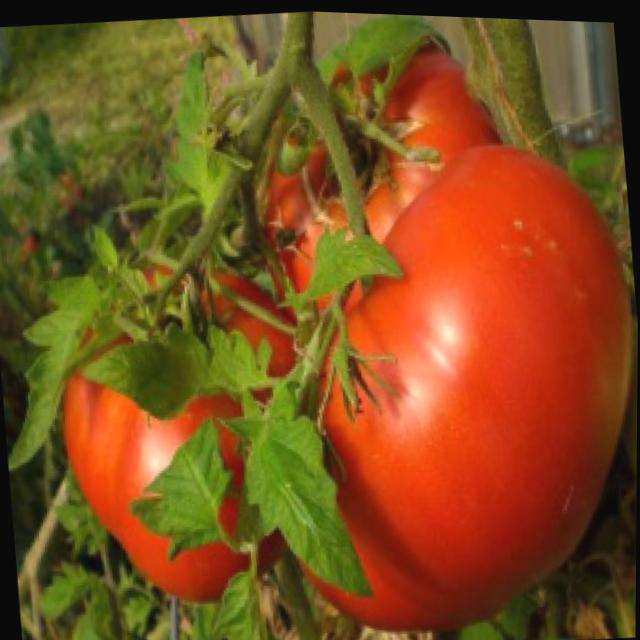tomato: (271, 123, 639, 640)
